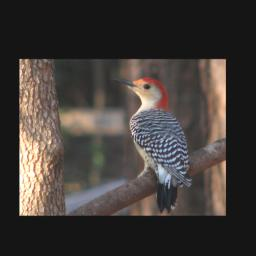Woodpecker: (109, 76, 193, 211)
